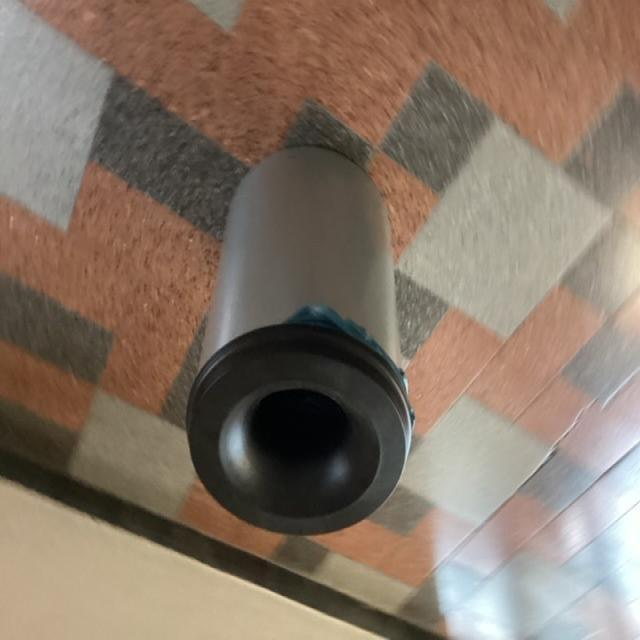garbage container: (166, 132, 429, 577)
